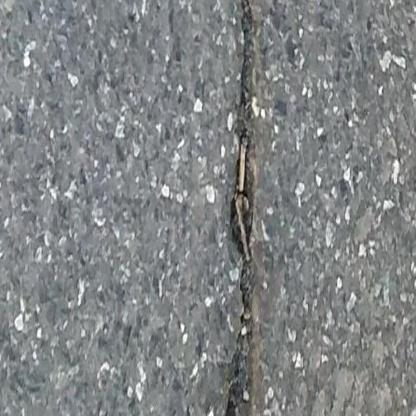Cracks: (223, 0, 262, 416)
